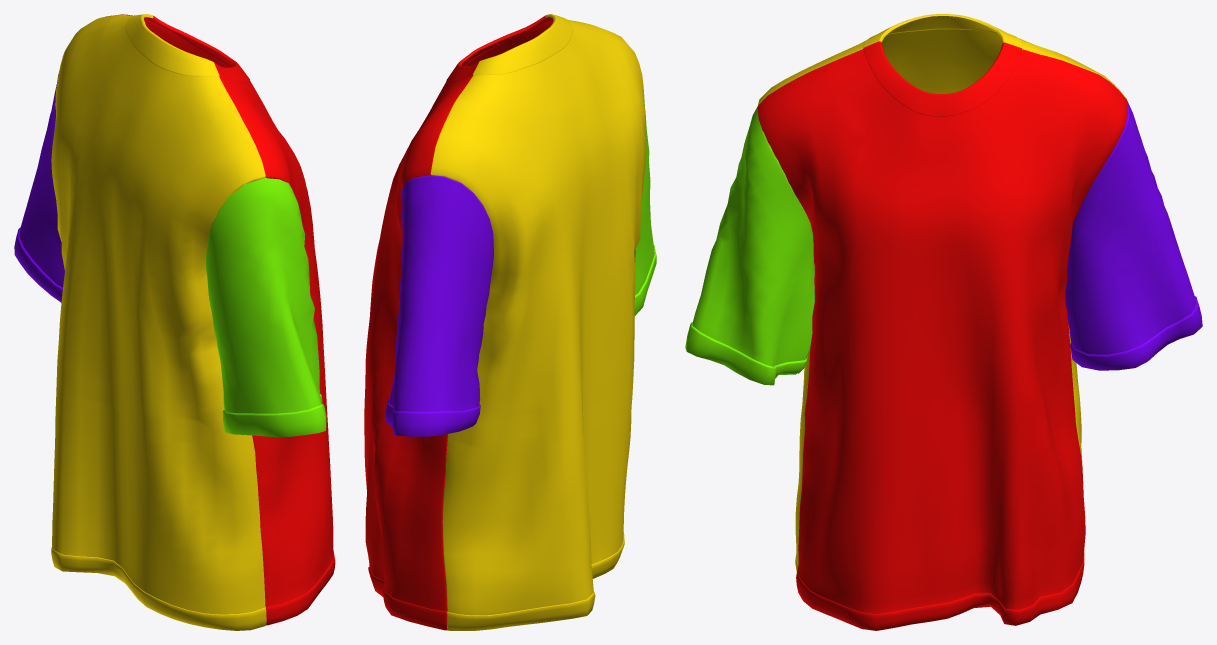
The model's file is dimona_real_oversized.gltf.
The picture shows the model from 3 angles, left to right: view 1: azimuth 30°, elevation 25°; view 2: azimuth 150°, elevation 25°; view 3: azimuth 270°, elevation 25°; orthographic projection.
Visible parts, largest first — view 1: camiseta; view 2: camiseta; view 3: camiseta.
Boxes of the visible parts, x1,y1,x2,y2 form: camiseta: [14, 14, 335, 630]; camiseta: [364, 14, 656, 630]; camiseta: [685, 14, 1202, 630].
Size of the model in its own units: 0.2977 by 0.7099 by 0.6043.
